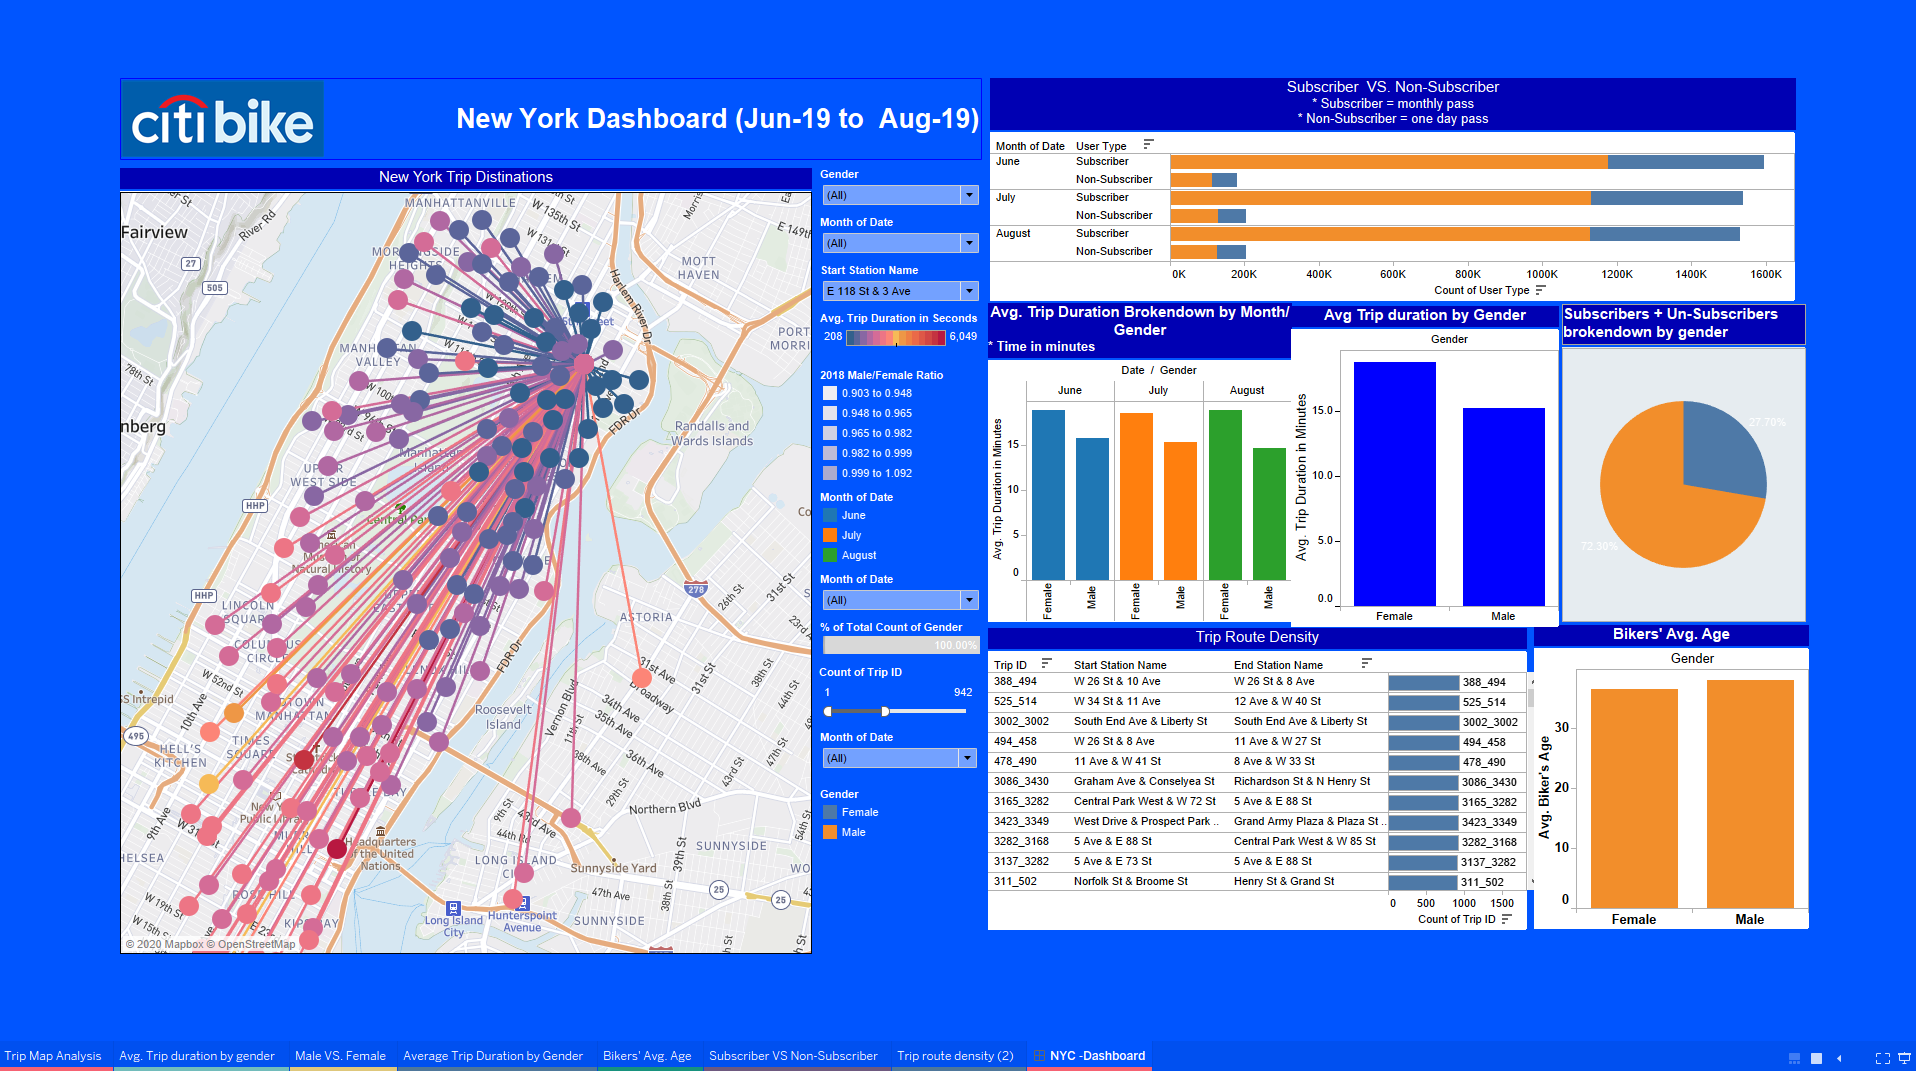

Layout of this report page (visuals, bound fields, positions):
{"tool":"tableau","page":{"name":"Dashboard 1","canvas":[1700,900],"ordinal":0},"visuals":[{"type":"title","box":[8,8,869.5,90]},{"type":"worksheet","title":"Subscriber VS Non-Subscriber","mark":"Bar","rows":["date","user_type"],"cols":["user_type"],"box":[877.5,8,814.5,231]},{"type":"image","param":"C:/Users/amgad/Desktop/800px-Citi_Bike_logo.jpg","box":[13,14,311,77]},{"type":"worksheet","title":"Trip Map Analysis","mark":"Line","rows":["station_latitude","station_latitude"],"cols":["station_longitude"],"box":[8,98,699.5,794]},{"type":"filter","title":"Trip Map Analysis","param":"[federated.086iafx10jtvi017wfh6u02yf172].[none:gender:nk]","box":[707.5,98,170,48]},{"type":"filter","title":"Trip Map Analysis","param":"[federated.086iafx10jtvi017wfh6u02yf172].[mn:date:ok]","box":[707.5,146,170,48]},{"type":"filter","title":"Trip Map Analysis","param":"[federated.086iafx10jtvi017wfh6u02yf172].[none:start_station_name:nk]","box":[707.5,194,170,48]},{"type":"worksheet","title":"Average Trip Duration by Gender","mark":"Bar","rows":["Calculation_1046242499318411264"],"cols":["date","gender"],"box":[880,237,440,319]},{"type":"worksheet","title":"Male VS. Female","mark":"Pie","box":[1322,238,376,318]},{"type":"legend","title":"Trip Map Analysis","param":"[federated.086iafx10jtvi017wfh6u02yf172].[avg:trip_duration:qk]","box":[707.5,242,170,57]},{"type":"legend","title":"Trip Map Analysis","box":[707.5,299,170,122]},{"type":"legend","title":"Average Trip Duration by Gender","param":"[federated.086iafx10jtvi017wfh6u02yf172].[mn:date:ok]","box":[707.5,421,170,82]},{"type":"filter","title":"Subscriber VS Non-Subscriber","param":"[federated.086iafx10jtvi017wfh6u02yf172].[mn:date:ok]","box":[707.5,503,170,48]},{"type":"legend","title":"Male VS. Female","param":"[federated.086iafx10jtvi017wfh6u02yf172].[pcto:cnt:gender:qk]","box":[707.5,551,170,42]},{"type":"worksheet","title":"Bikers' Avg. Age","mark":"Automatic","rows":["Calculation_1775544163785494529"],"cols":["gender"],"box":[1426,559,275,304]},{"type":"worksheet","title":"Trip route density (2)","mark":"Bar","rows":["Calculation_1775544163785105408","start_station_name","end_station_name"],"cols":["Calculation_1775544163785105408"],"box":[880,562,556,302]},{"type":"filter","title":"Trip route density (2)","param":"[federated.086iafx10jtvi017wfh6u02yf172].[cnt:Calculation_1775544163785105408:qk","box":[711,600,160,57]},{"type":"filter","title":"Trip route density (2)","param":"[federated.086iafx10jtvi017wfh6u02yf172].[mn:date:ok]","box":[712,665,160,40]},{"type":"legend","title":"Male VS. Female","param":"[federated.086iafx10jtvi017wfh6u02yf172].[none:gender:nk]","box":[712,722,140,54]}]}

Visuals, with their boxes on the page's 1700x900 design canvas (x1, y1, x2, y2). These are canvas units, not pixel positions in the 1916x1071 screenshot, which may show the page scaled, cropped or inside an application window:
title: detection(8, 8, 878, 98)
"Subscriber VS Non-Subscriber" worksheet (Bar marks): detection(878, 8, 1692, 239)
image: detection(13, 14, 324, 91)
"Trip Map Analysis" worksheet (Line marks): detection(8, 98, 708, 892)
"Trip Map Analysis" filter: detection(708, 98, 878, 146)
"Trip Map Analysis" filter: detection(708, 146, 878, 194)
"Trip Map Analysis" filter: detection(708, 194, 878, 242)
"Average Trip Duration by Gender" worksheet (Bar marks): detection(880, 237, 1320, 556)
"Male VS. Female" worksheet (Pie marks): detection(1322, 238, 1698, 556)
"Trip Map Analysis" legend: detection(708, 242, 878, 299)
"Trip Map Analysis" legend: detection(708, 299, 878, 421)
"Average Trip Duration by Gender" legend: detection(708, 421, 878, 503)
"Subscriber VS Non-Subscriber" filter: detection(708, 503, 878, 551)
"Male VS. Female" legend: detection(708, 551, 878, 593)
"Bikers' Avg. Age" worksheet: detection(1426, 559, 1701, 863)
"Trip route density (2)" worksheet (Bar marks): detection(880, 562, 1436, 864)
"Trip route density (2)" filter: detection(711, 600, 871, 657)
"Trip route density (2)" filter: detection(712, 665, 872, 705)
"Male VS. Female" legend: detection(712, 722, 852, 776)
